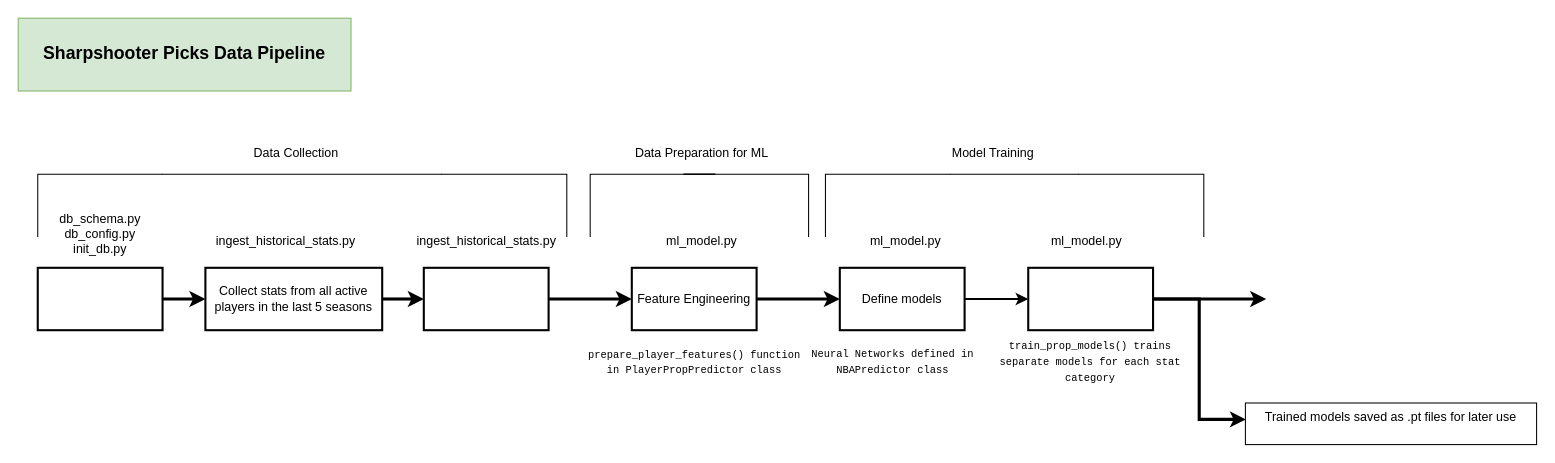
Image size: 1555x463. Some labels were removed from this diagram. The shapes that lost their labels are listed below. From the top down, each one's box as (x1, y1, x2, y2) in pixels, then its label:
(36, 266, 163, 331): create PostgreSQL tables
(422, 266, 549, 331): storage in PostgreSQL tables
(1027, 266, 1154, 331): Train models
